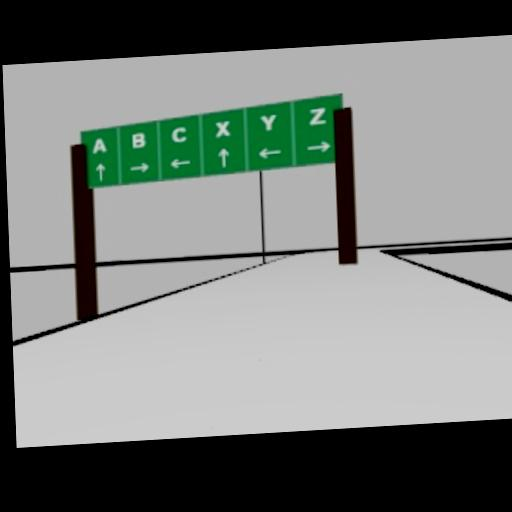A: (90, 135, 107, 152)
B: (131, 132, 144, 147)
C: (171, 124, 186, 141)
Left: (255, 144, 283, 159), (169, 156, 190, 167)
Right: (306, 138, 330, 153), (129, 160, 150, 172)
Straight: (217, 146, 229, 166), (94, 161, 105, 180)
X: (214, 119, 230, 136)
Y: (259, 112, 275, 129)
Z: (308, 104, 326, 123)
